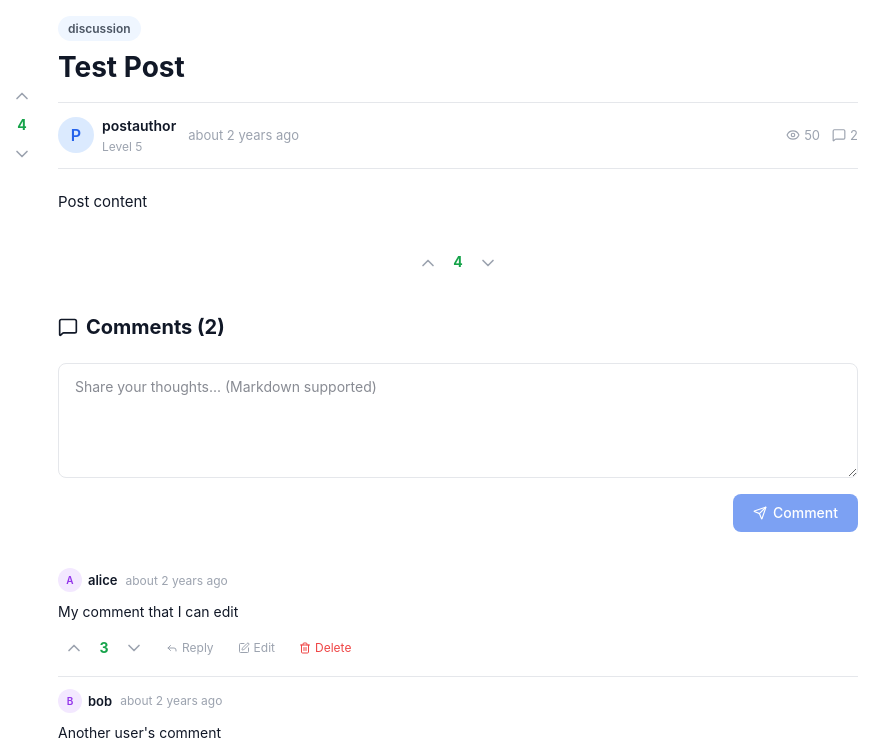
PostDetailPage - Comment Editing › Edit mode › disables Save button when edit content is empty
This screenshot has width=875, height=753.
Click the button "Edit" at [256, 648], box [230,634,283,662]
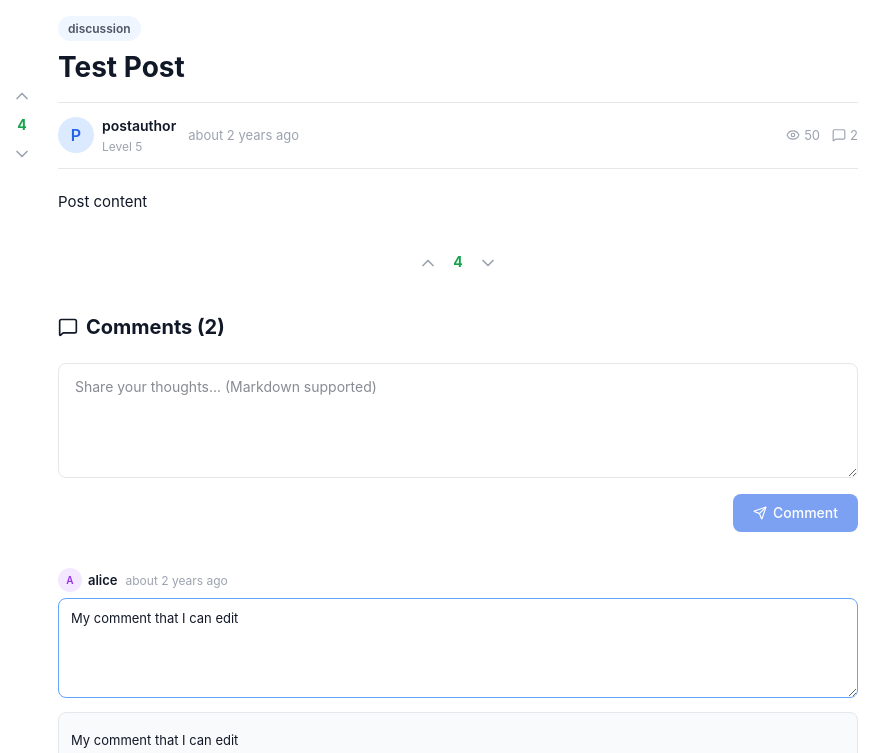
Clear the text box showing "My comment that I can edit" at [458, 648], box [58,598,858,698]
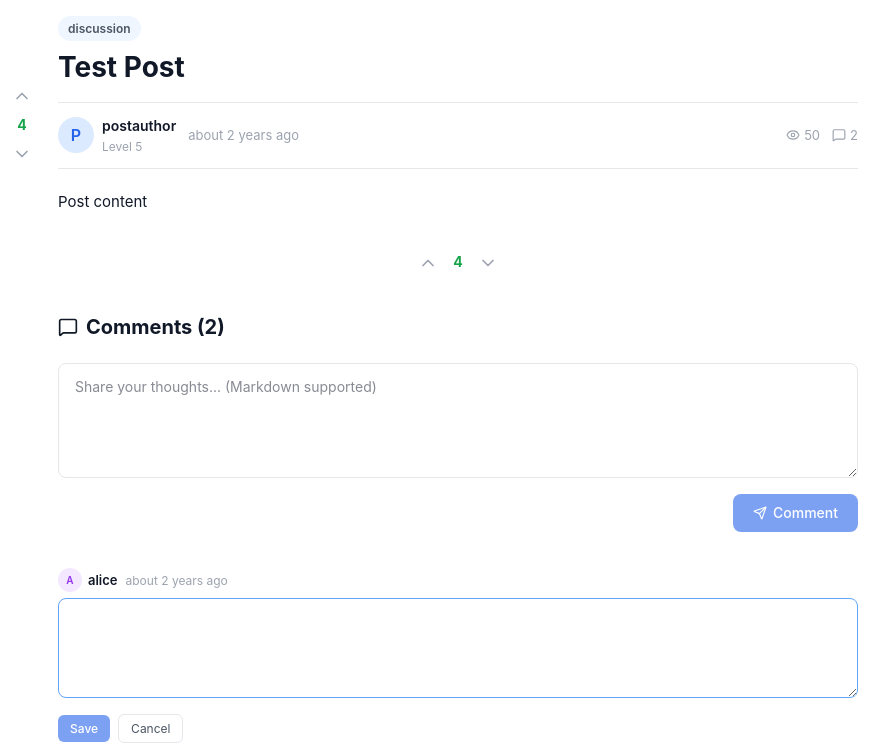
expect the button "Save" is disabled: met, box [58,715,110,742]
